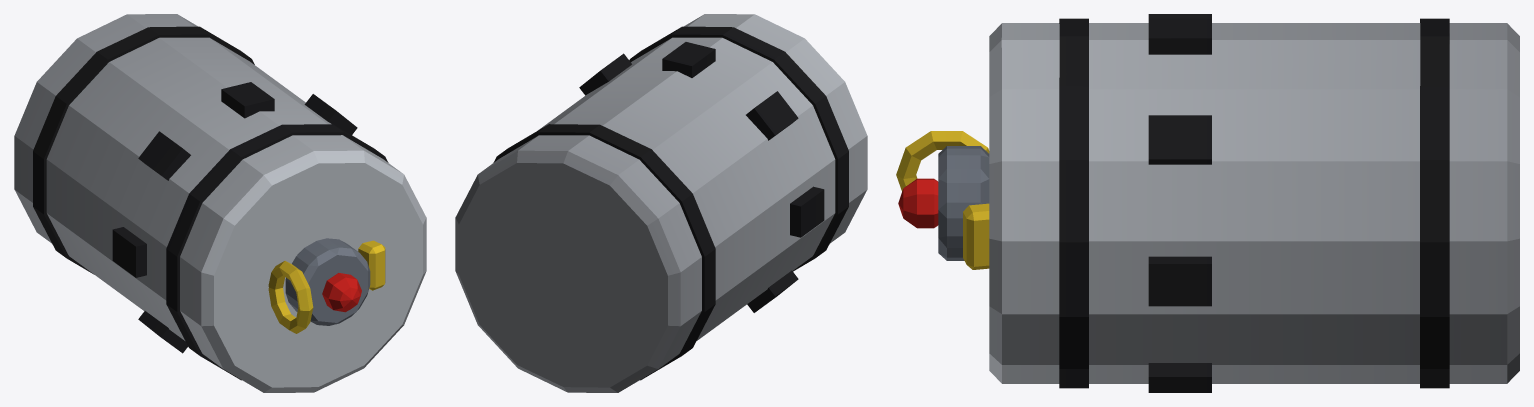
The model's file is smoke.glb.
The picture shows the model from 3 angles, left to right: view 1: azimuth 30°, elevation 25°; view 2: azimuth 150°, elevation 25°; view 3: azimuth 270°, elevation 25°; orthographic projection. The views are drawn at different scales.
Visible parts, largest first — view 1: smoke; view 2: smoke; view 3: smoke.
Boxes of the visible parts, left/top/right/bottom form: smoke: left=14, top=14, right=426, bottom=392; smoke: left=455, top=14, right=867, bottom=392; smoke: left=896, top=14, right=1519, bottom=392.
Size of the model in its own units: 0.182 by 0.182 by 0.2939.
